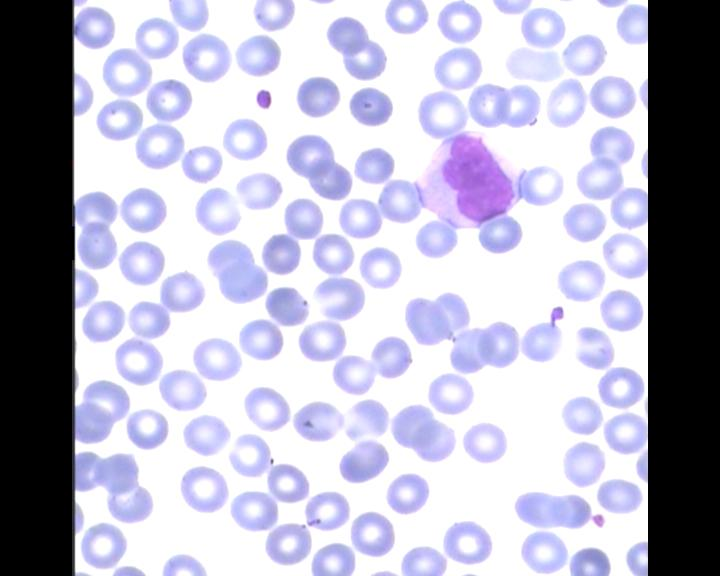mono: (411, 129, 528, 232)
